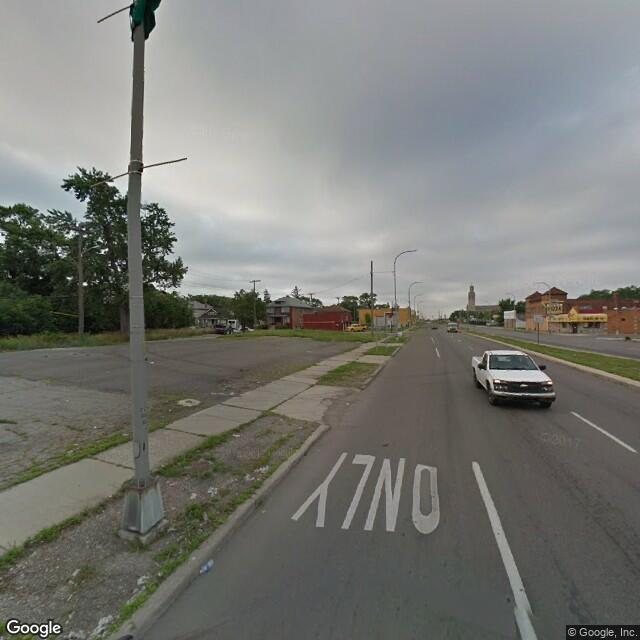litter: (197, 558, 219, 572), (149, 358, 157, 365)
